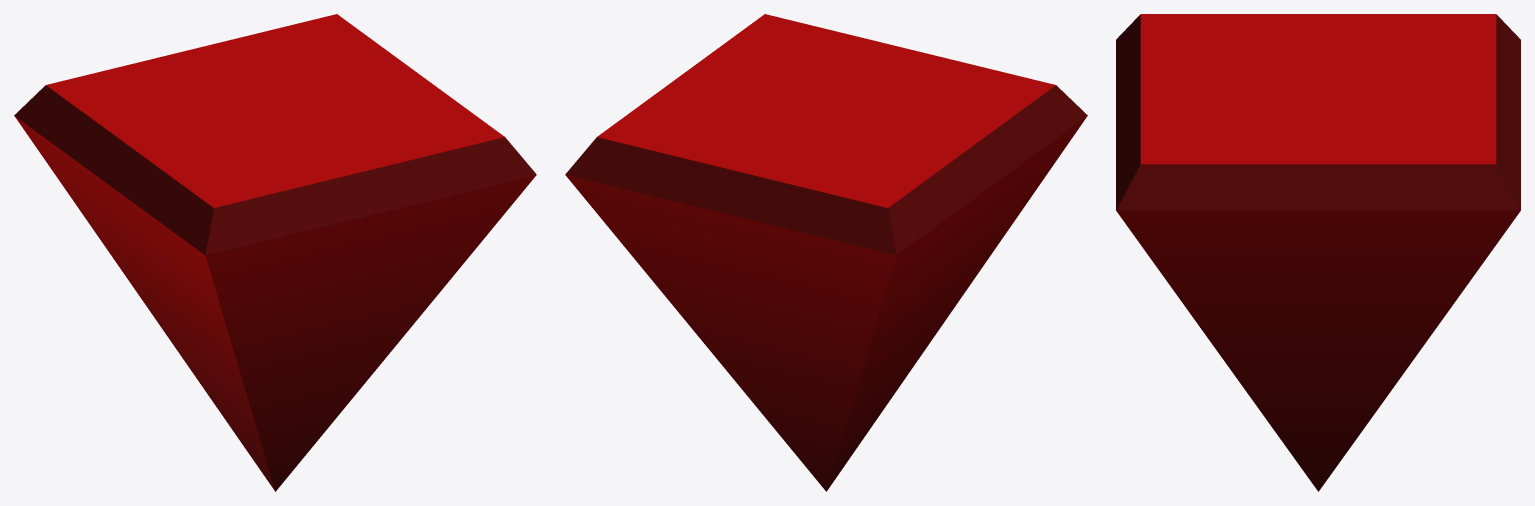
The model's file is IndicationArrow.obj.
3 views of the same model, side by side, from view 1: azimuth 30°, elevation 25°; view 2: azimuth 150°, elevation 25°; view 3: azimuth 270°, elevation 25° (orthographic). The views are drawn at different scales.
Visible parts, largest first — view 1: Arrow; view 2: Arrow; view 3: Arrow.
Boxes of the visible parts, bbox=[...] form: Arrow: bbox=[14, 14, 536, 491]; Arrow: bbox=[565, 14, 1087, 491]; Arrow: bbox=[1116, 14, 1520, 491].
Bounding box in the file's own units: 0.4553 × 0.5 × 0.4553.
1 material, 1 textured.
